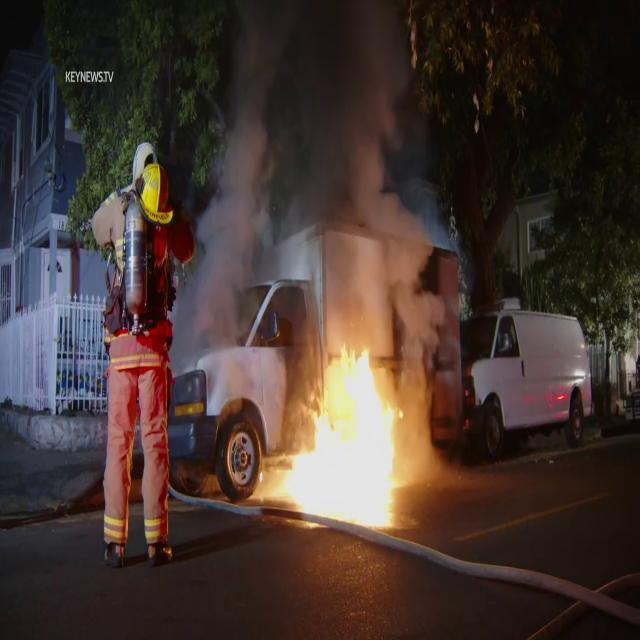Fire: (275, 333, 403, 534)
Smoke: (174, 0, 452, 383)
